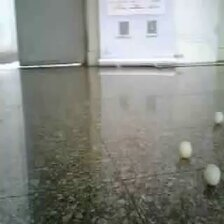tennis: (194, 78, 209, 99), (132, 64, 145, 80), (211, 64, 221, 79)
